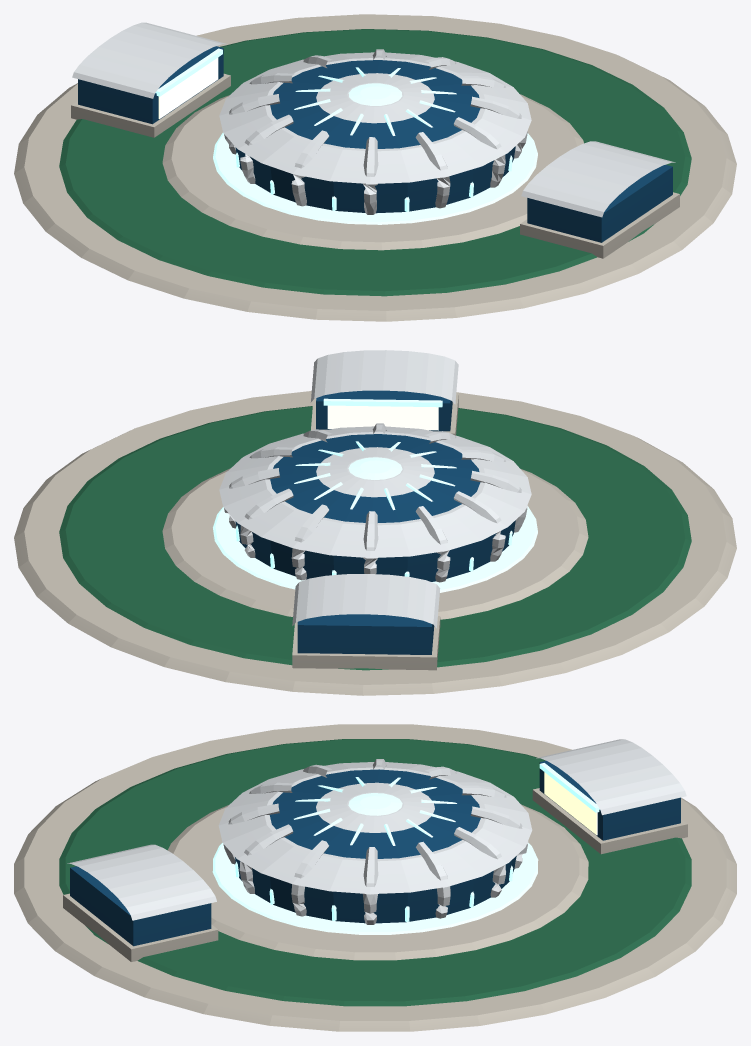
File: ga_ben_thanh_skylight.glb
3 views of the same model, one above another, from view 1: azimuth 30°, elevation 25°; view 2: azimuth 150°, elevation 25°; view 3: azimuth 270°, elevation 25° (orthographic).
Parts seen in each view (by area): view 1: ga_ben_thanh_skylight; view 2: ga_ben_thanh_skylight; view 3: ga_ben_thanh_skylight.
Part boxes in pixels (x1,y1,x2,y2): ga_ben_thanh_skylight: (14,14,736,321); ga_ben_thanh_skylight: (14,350,736,695); ga_ben_thanh_skylight: (14,724,736,1031).
Bounding box in the file's own units: 55.74 × 6.5 × 55.74.
